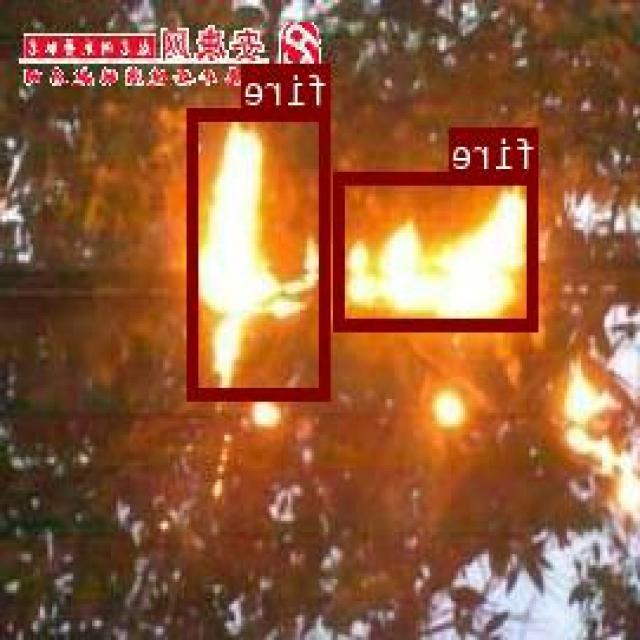fire: (191, 107, 332, 399), (336, 170, 540, 327)
